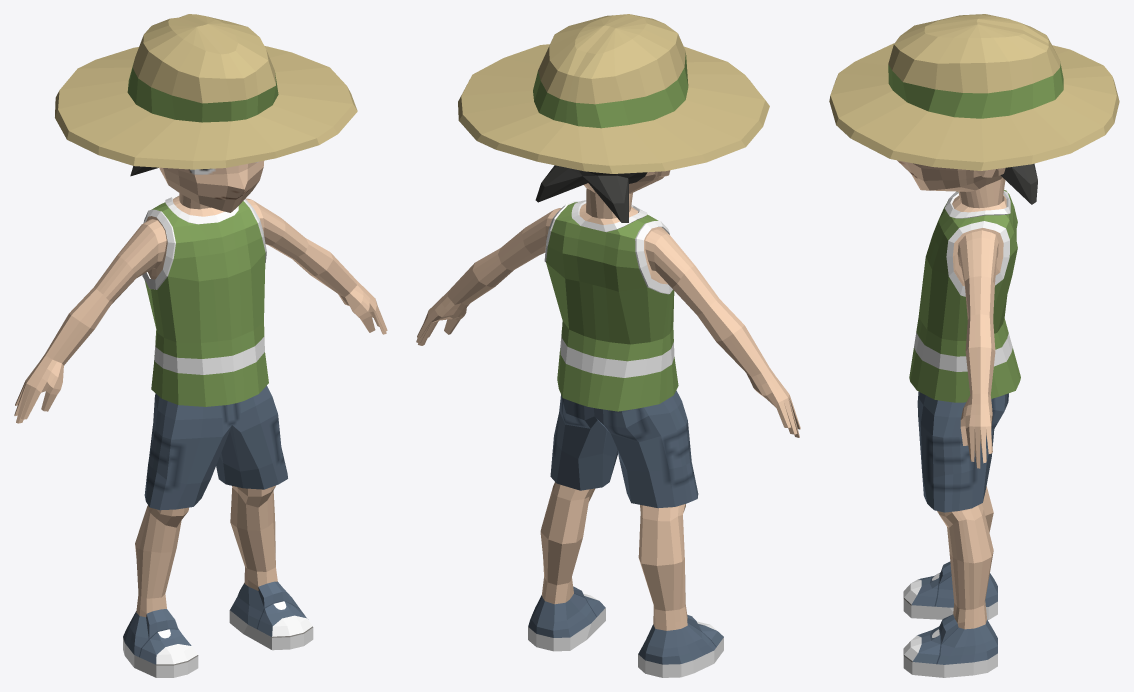
File: BugCatcher.fbx
The picture shows the model from 3 angles, left to right: view 1: azimuth 30°, elevation 25°; view 2: azimuth 150°, elevation 25°; view 3: azimuth 270°, elevation 25°; orthographic projection. The views are drawn at different scales.
Parts seen in each view (by area): view 1: Sphere; view 2: Sphere; view 3: Sphere.
Part boxes in pixels (<box>): Sphere: <box>14,14,387,677</box>; Sphere: <box>416,14,800,677</box>; Sphere: <box>829,14,1119,677</box>.
Size of the model in its own units: 144 by 226 by 96.57.
